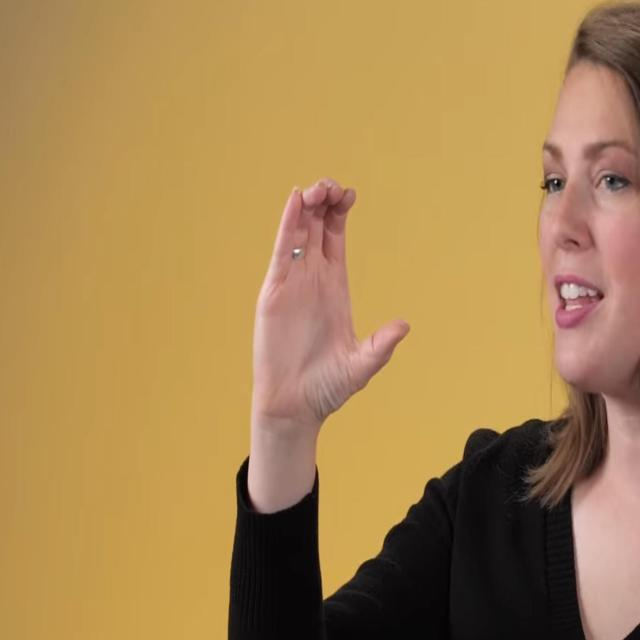C: (252, 174, 414, 426)
